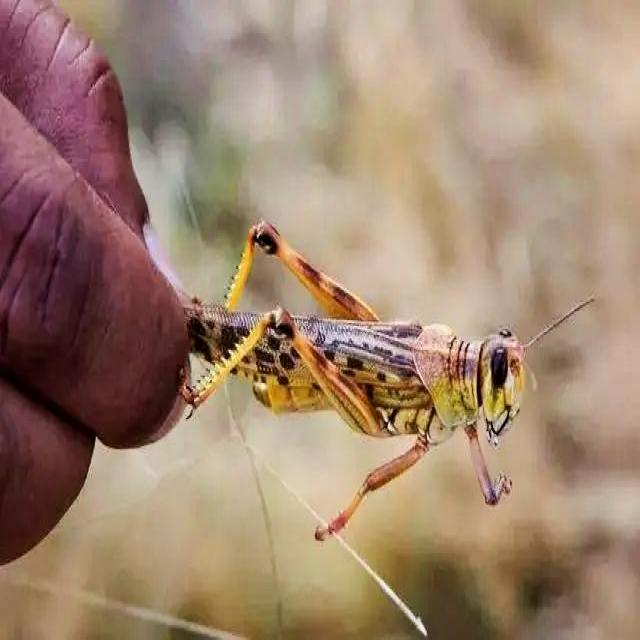ZhaMeng: (190, 213, 550, 524)
